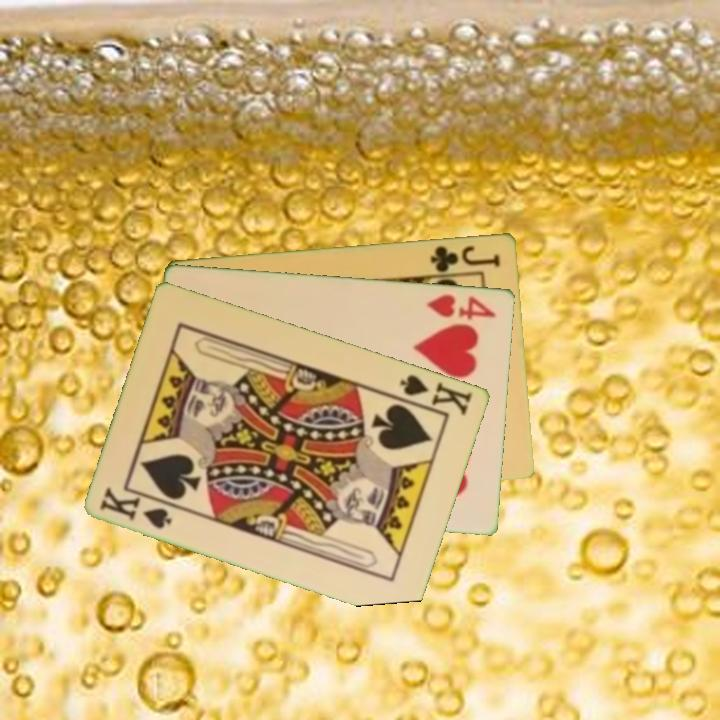4h: (424, 290, 499, 323)
Jc: (427, 241, 504, 274)
Ks: (392, 370, 476, 418), (96, 483, 176, 532)
